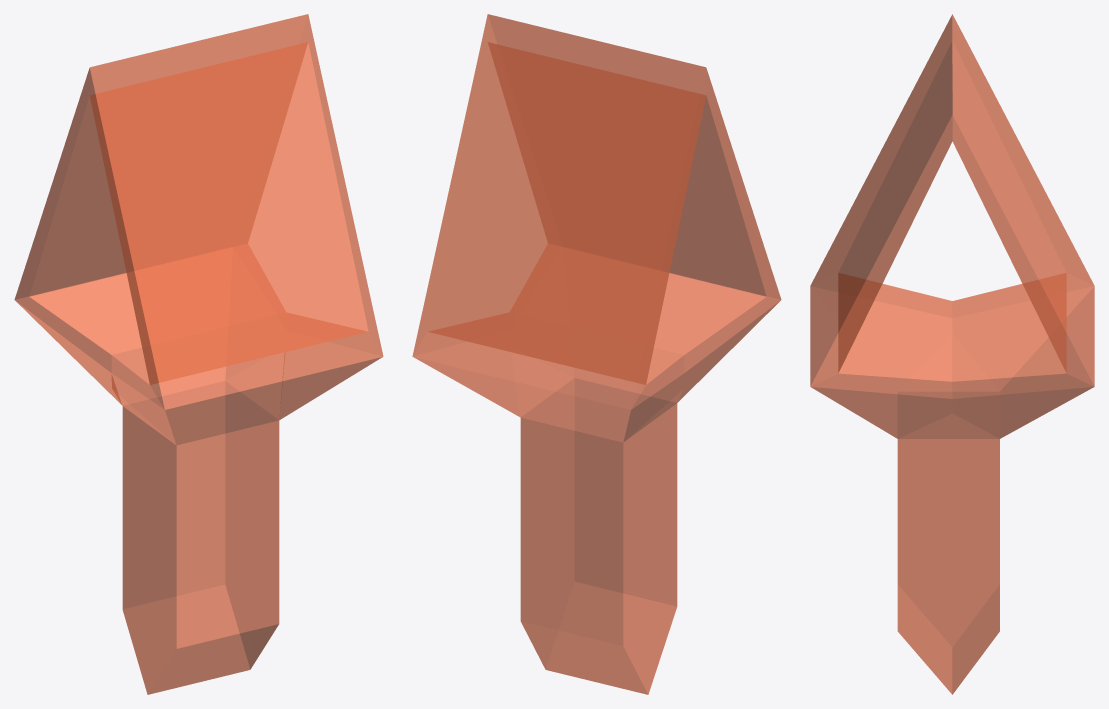
File: pingvehicule.fbx
3 views of the same model, side by side, from view 1: azimuth 30°, elevation 25°; view 2: azimuth 150°, elevation 25°; view 3: azimuth 270°, elevation 25° (orthographic). The views are drawn at different scales.
Parts seen in each view (by area): view 1: Cube; view 2: Cube; view 3: Cube.
Part boxes in pixels (<box>): Cube: <box>14,14,383,694</box>; Cube: <box>412,14,781,694</box>; Cube: <box>810,14,1094,694</box>.
Size of the model in its own units: 38.96 by 46.41 by 109.
